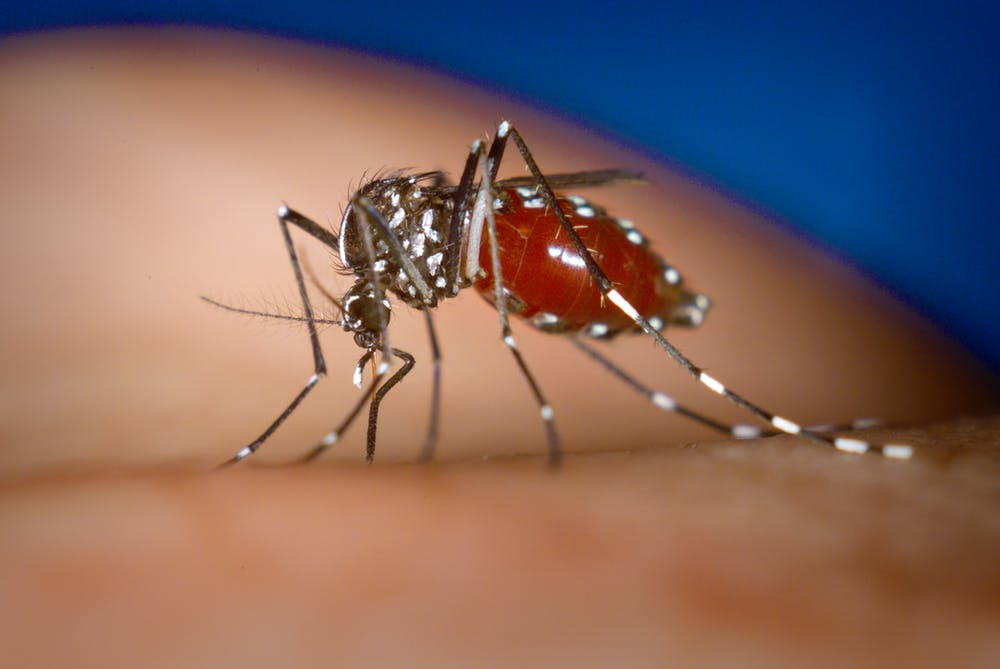dengue_mosquito: (224, 122, 913, 461)
